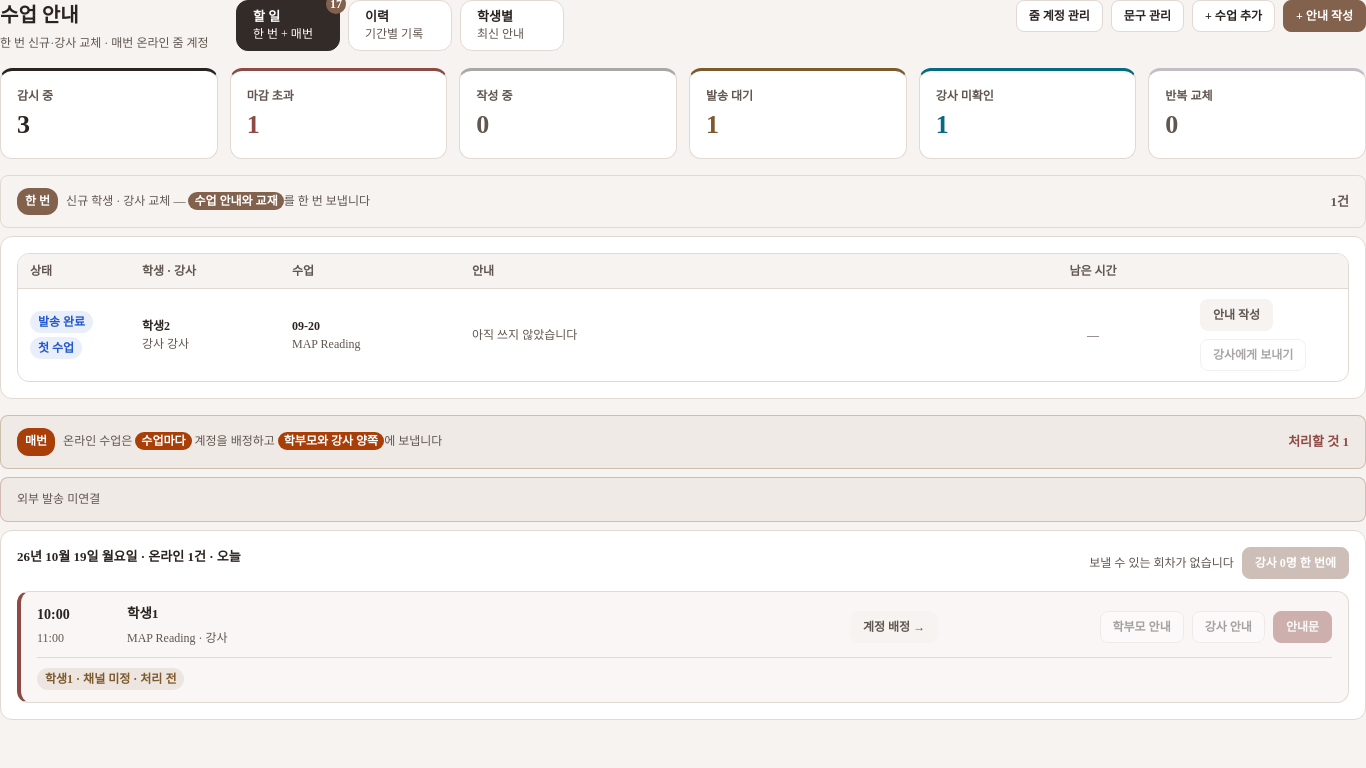
배정 창의 canAdminPage 회수는 초안을 폐기하고 새 요청을 차단한다
The width and height of the screenshot is (1366, 768).
Click the button "계정 배정 →".
click(894, 626)  # box [850, 610, 938, 642]
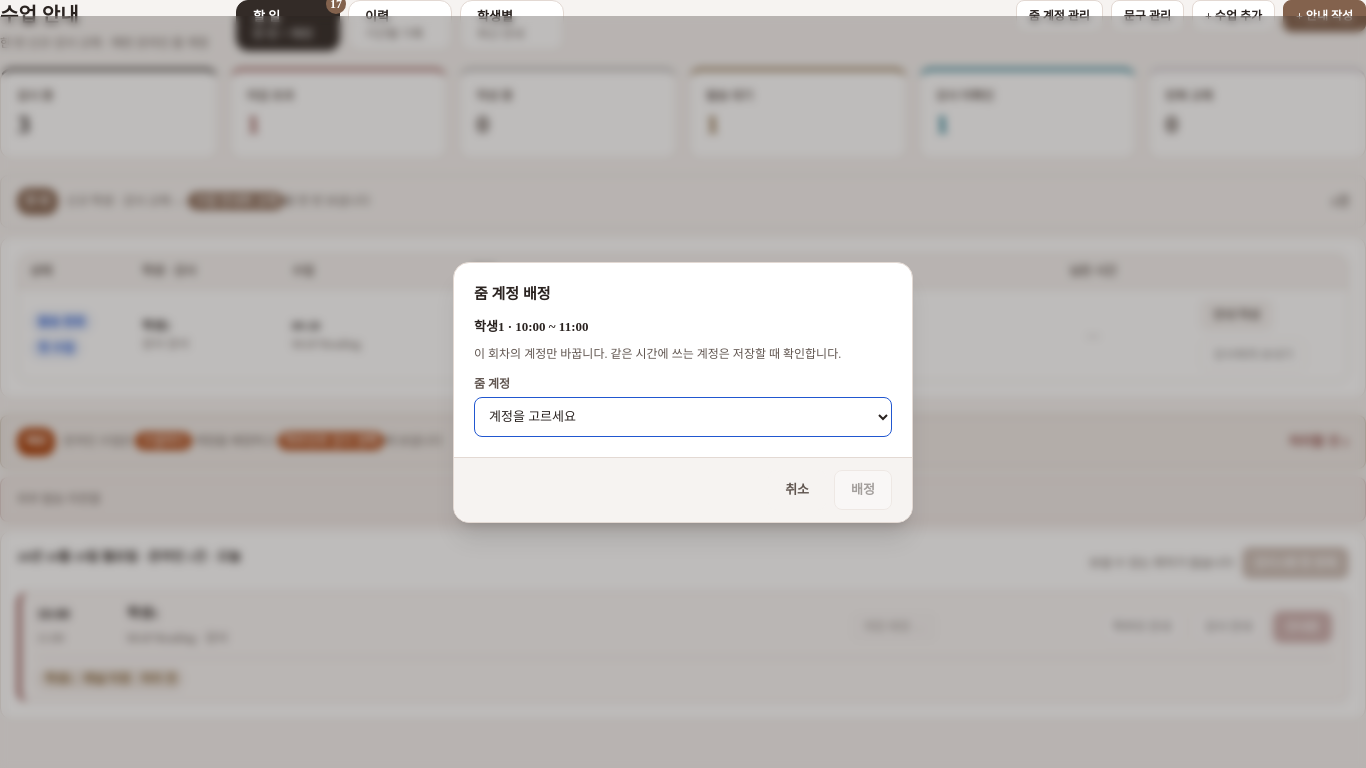
Select "Study" in the dropdown labelled "줌 계정" at point(683, 416), box [474, 396, 892, 436]
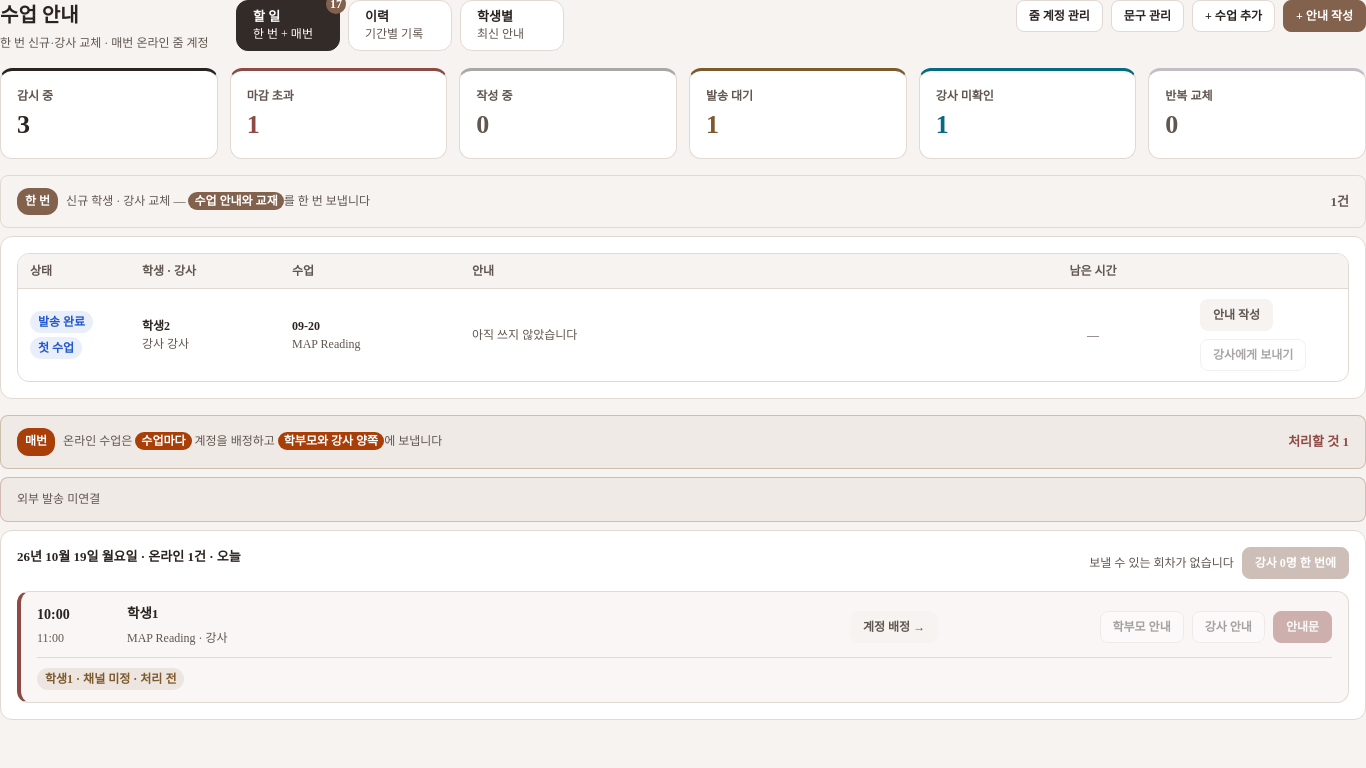
Result: the dialog is gone
Click the button "계정 배정 →".
click(894, 626)  # box [850, 610, 938, 642]
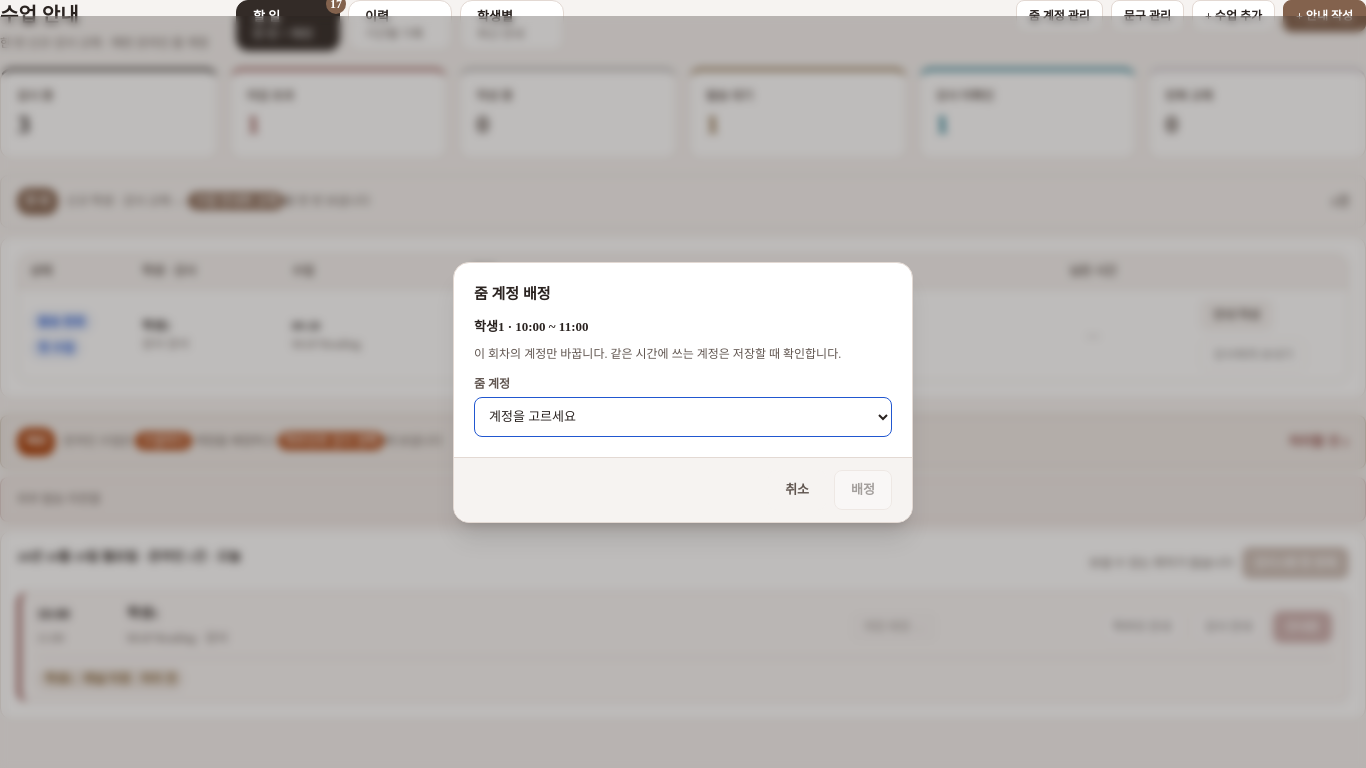
Result: the dropdown labelled "줌 계정" shows "계정을 고르세요" at [474, 396, 892, 436]
